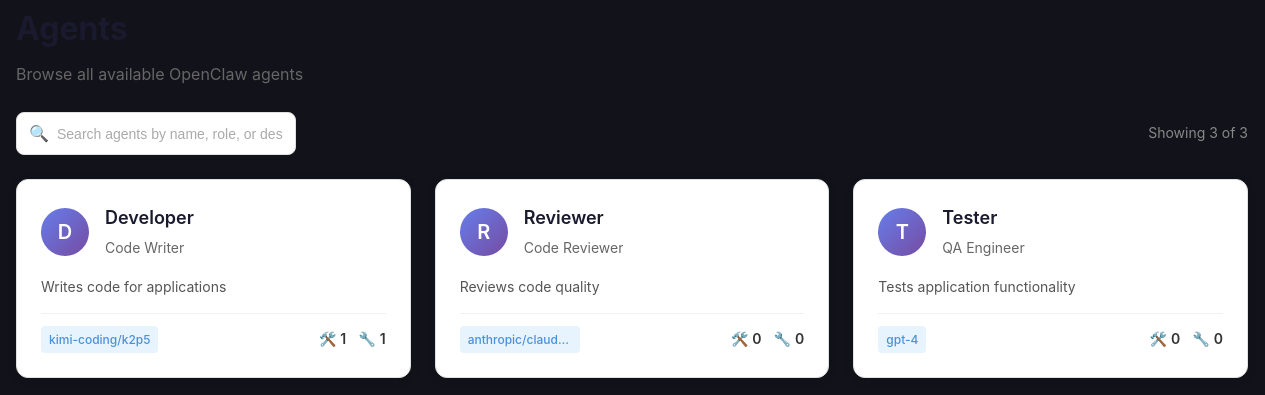
it: AgentsPage › filters agents by role (case-insensitive)
This screenshot has width=1265, height=395.
In the field: x=170, y=134 [57,126,283,142], type "CODE"
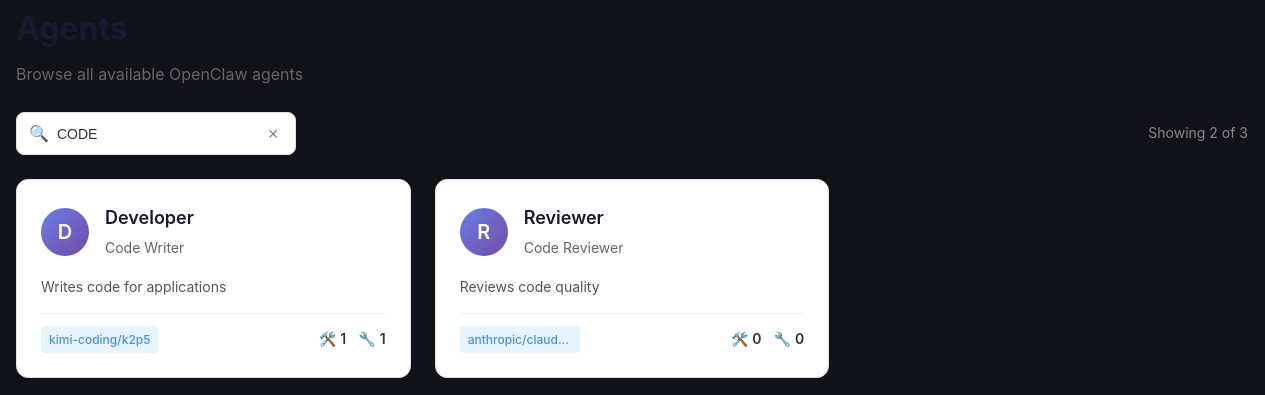
Check: the heading "Developer" is shown, box [105,204,194,233]
Check: the button "Tester" is gone
